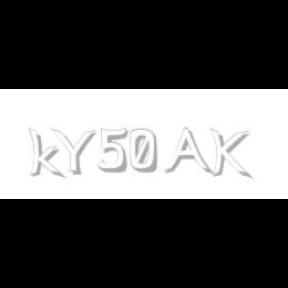0: (130, 128, 160, 174)
5: (97, 128, 128, 174)
A: (163, 128, 211, 176)
K: (209, 128, 249, 180)
Y: (50, 128, 96, 176)
k: (28, 128, 66, 180)
